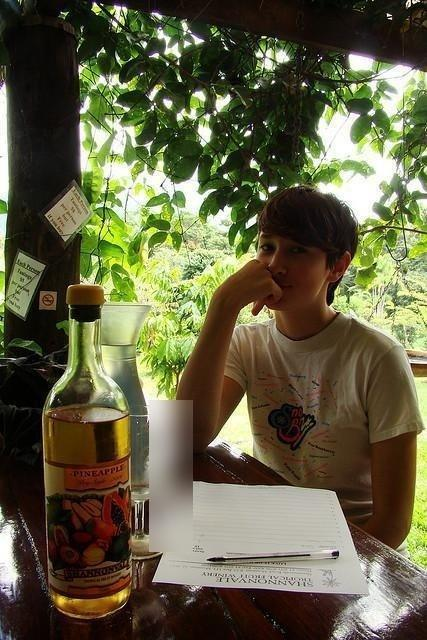bottle-glass: (42, 285, 134, 621)
